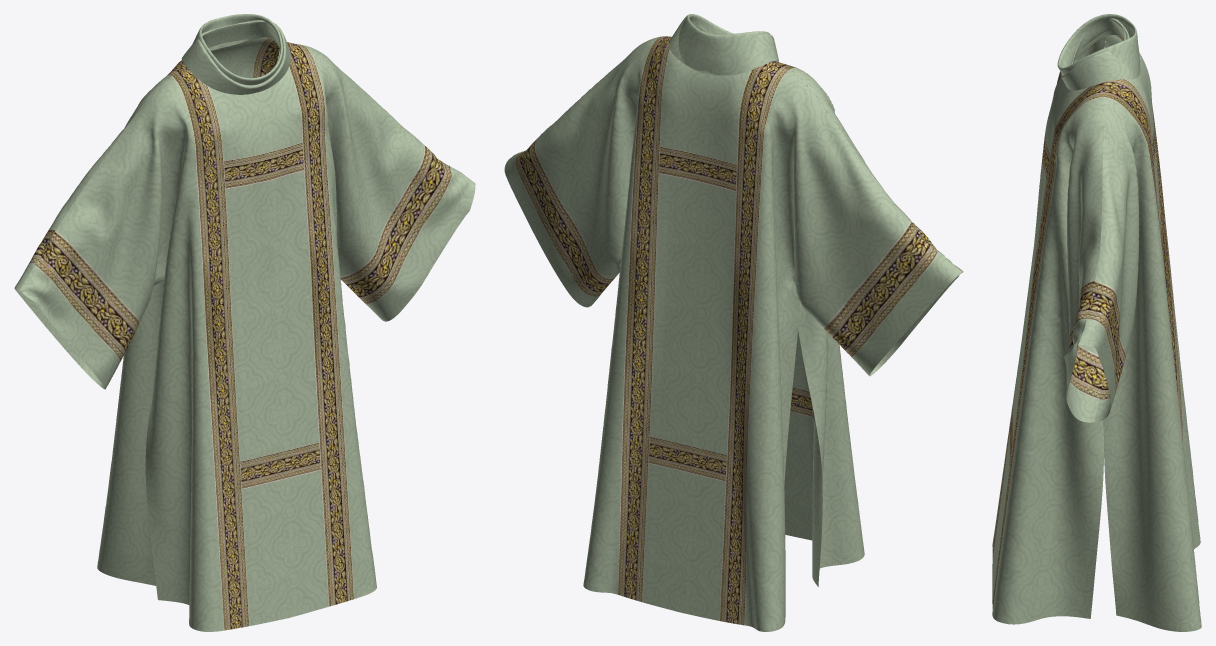
File: dalmatic.glb
3 renders of one model, left to right at view 1: azimuth 30°, elevation 25°; view 2: azimuth 150°, elevation 25°; view 3: azimuth 270°, elevation 25°, orthographic.
Visible parts, largest first — view 1: dalmatic_1, dalmatic_2, collar_4, collar_3, collar_6; view 2: dalmatic_2, dalmatic_1, collar_3, collar_4; view 3: dalmatic_1, dalmatic_2, collar_3, collar_4, collar_6.
Part boxes in pixels (<box>): dalmatic_1: <box>19,43,475,631</box>; dalmatic_2: <box>14,37,470,585</box>; collar_4: <box>181,20,290,94</box>; collar_3: <box>192,14,283,85</box>; collar_6: <box>206,22,279,62</box>; dalmatic_2: <box>504,38,962,631</box>; dalmatic_1: <box>523,36,963,586</box>; collar_3: <box>678,14,770,75</box>; collar_4: <box>669,15,778,75</box>; dalmatic_1: <box>992,34,1107,624</box>; dalmatic_2: <box>1078,35,1201,631</box>; collar_3: <box>1057,14,1139,76</box>; collar_4: <box>1060,18,1140,90</box>; collar_6: <box>1071,22,1126,64</box>.
Bounding box in the file's own units: 37.01 × 43.39 × 14.66.
Materials: 3 (3 with a texture image).
